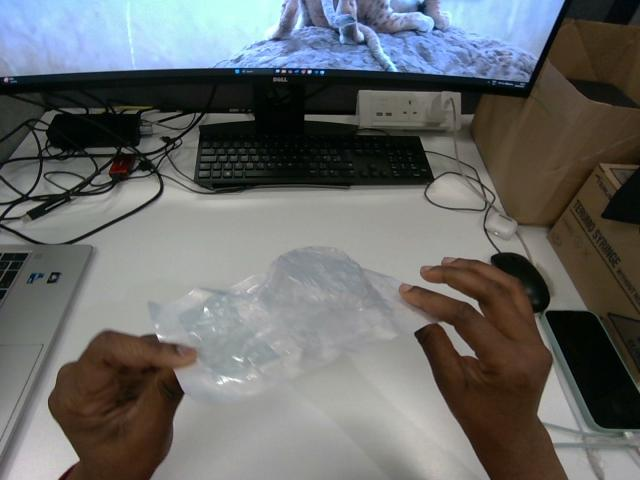gallipot: (150, 247, 431, 402)
